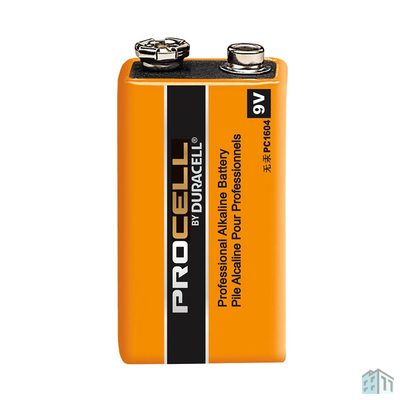9V: (113, 34, 296, 369)
